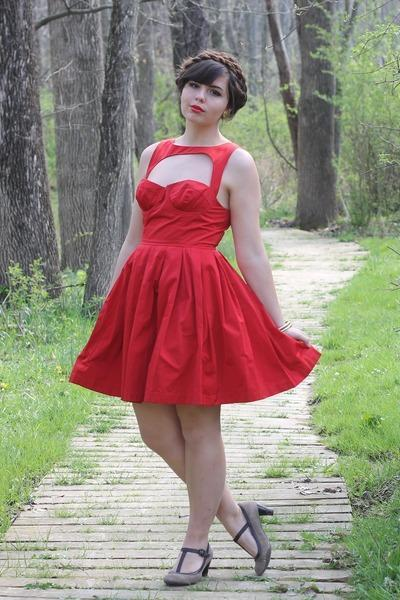dress: (69, 132, 320, 406)
shoe: (164, 504, 322, 587)
